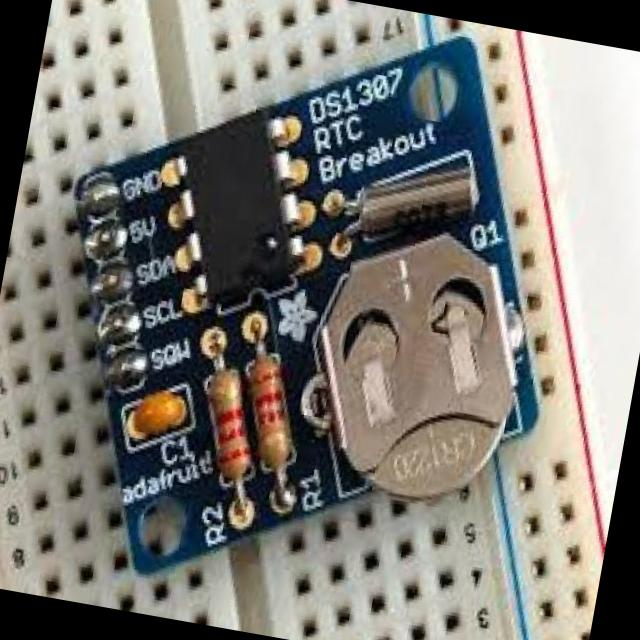IC: (157, 103, 320, 313)
capacitor: (122, 384, 191, 454)
resistor: (200, 344, 261, 495), (242, 328, 301, 480)
